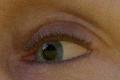eye: (36, 41, 63, 62)
